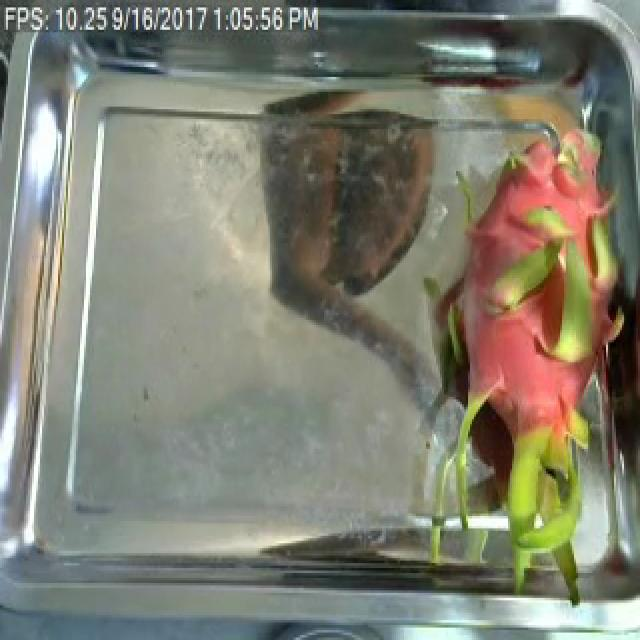fruit: (386, 166, 640, 603)
